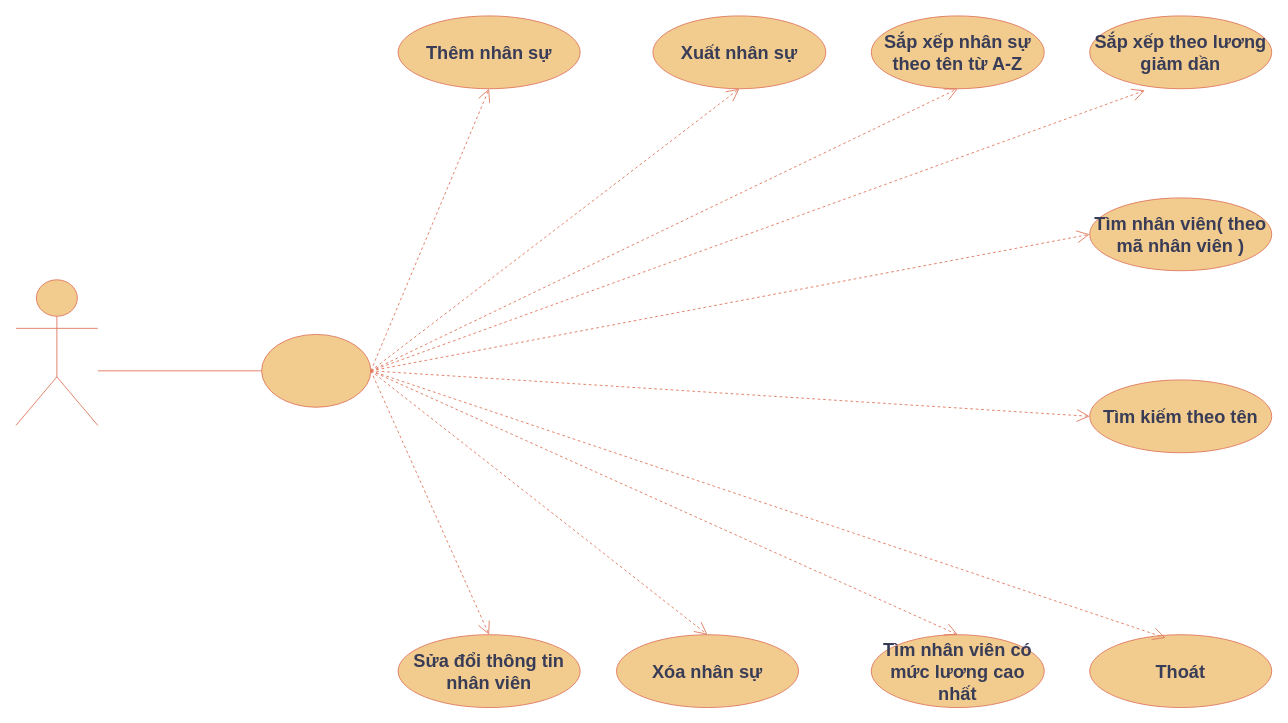
This 1288x723 diagram has some shape labels left out. Each missing label, with the centre of its shape:
Admin: the point at 56,352
Quản lý nhân sự: the point at 316,370
